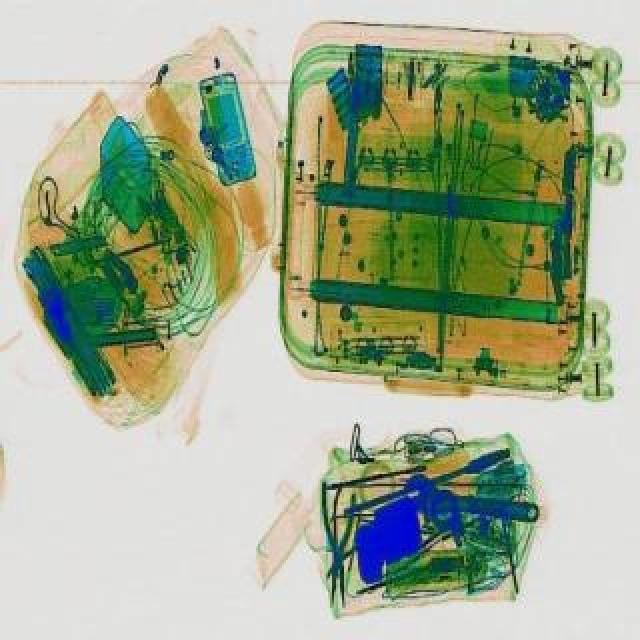scissors: (396, 468, 544, 536)
